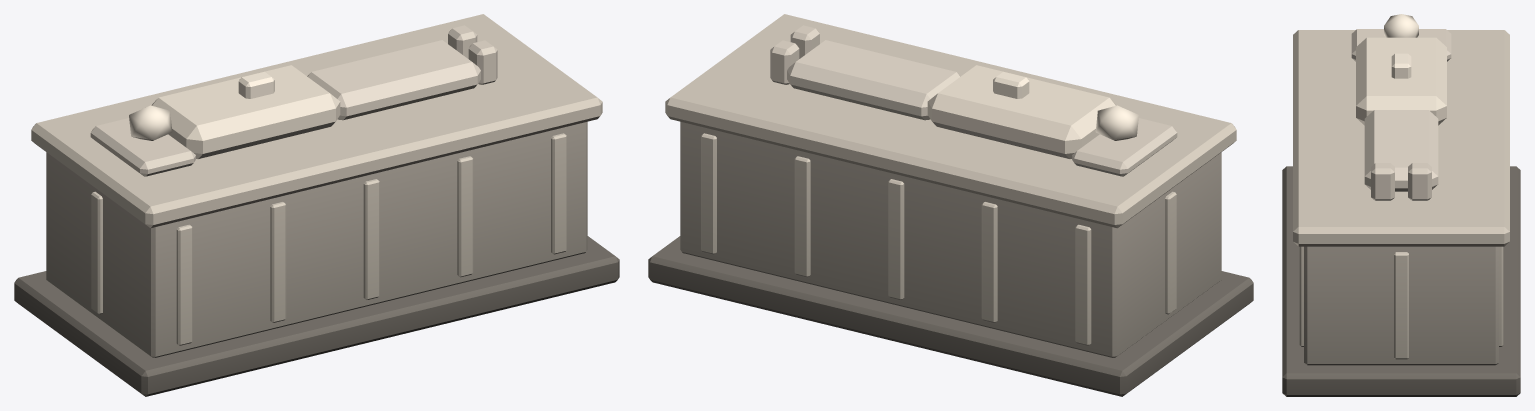
Rendered from SM_VKI_Prop_Sarcophagus.fbx.
3 renders of one model, left to right at view 1: azimuth 30°, elevation 25°; view 2: azimuth 150°, elevation 25°; view 3: azimuth 270°, elevation 25°, orthographic. The views are drawn at different scales.
Visible parts, largest first — view 1: SM_VKI_Prop_Sarcophagus.001; view 2: SM_VKI_Prop_Sarcophagus.001; view 3: SM_VKI_Prop_Sarcophagus.001.
Part boxes in pixels (box(x1,y1,x2,y2)): SM_VKI_Prop_Sarcophagus.001: box(14, 14, 619, 396); SM_VKI_Prop_Sarcophagus.001: box(648, 14, 1253, 396); SM_VKI_Prop_Sarcophagus.001: box(1282, 14, 1520, 396).
Size of the model in its own units: 2.3 by 1.06 by 1.1.
